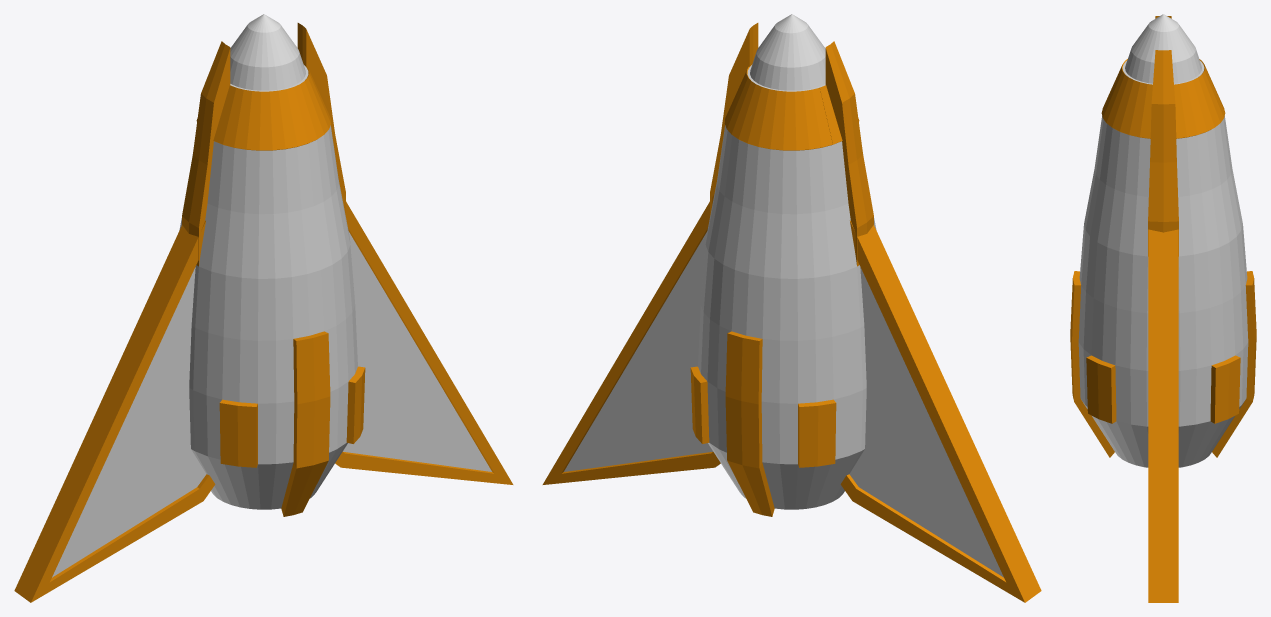
3 renders of one model, left to right at view 1: azimuth 30°, elevation 25°; view 2: azimuth 150°, elevation 25°; view 3: azimuth 270°, elevation 25°, orthographic. The views are drawn at different scales.
Visible parts, largest first — view 1: Cylinder.001, Cylinder.002; view 2: Cylinder.001, Cylinder.002; view 3: Cylinder.001, Cylinder.002.
Boxes of the visible parts, box(x1,y1,x2,y2) form: Cylinder.001: box(52, 14, 491, 577); Cylinder.002: box(14, 23, 513, 602); Cylinder.001: box(564, 14, 1003, 577); Cylinder.002: box(542, 23, 1041, 602); Cylinder.001: box(1078, 14, 1248, 467); Cylinder.002: box(1070, 16, 1256, 602).
Size of the model in its own units: 3.19 by 3.31 by 1.16.
